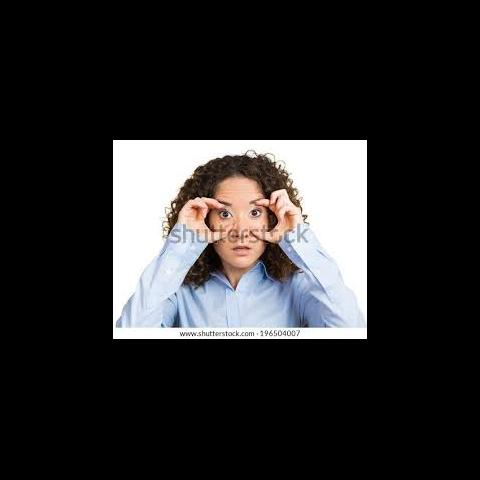opened: (215, 200, 266, 224)
